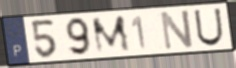1: (130, 15, 147, 50)
5: (30, 17, 59, 61)
9: (63, 16, 93, 58)
M: (90, 14, 133, 56)
N: (159, 8, 195, 52)
U: (193, 7, 226, 48)
